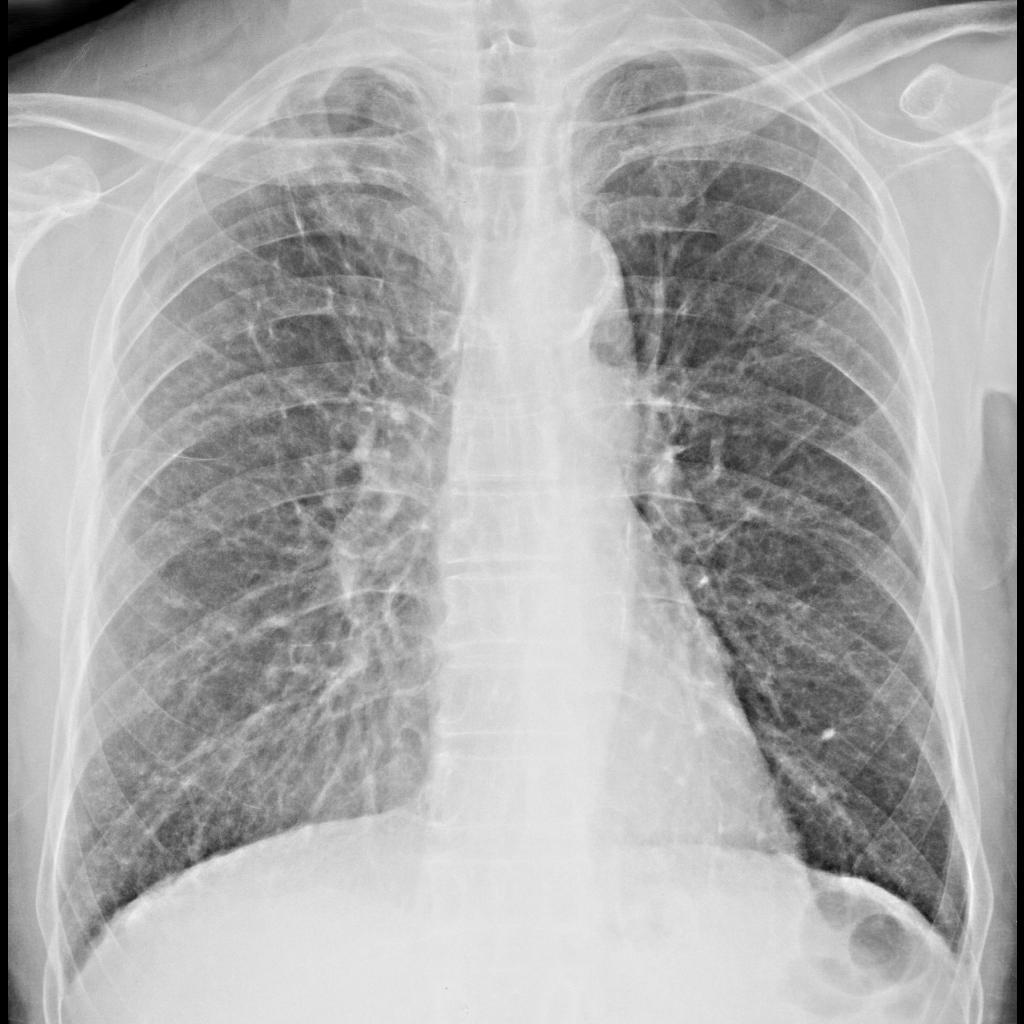Nodule: (268, 130, 319, 182)
